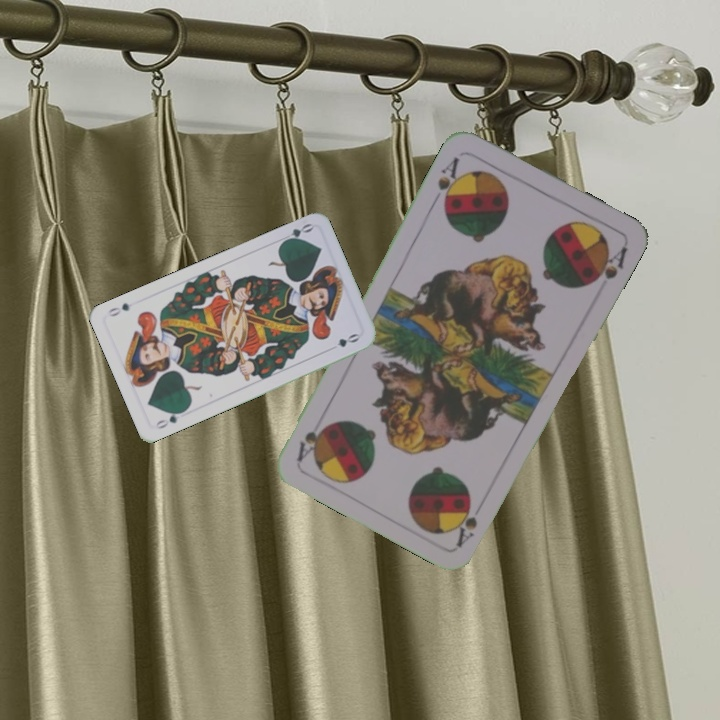GO: (278, 219, 315, 246), (151, 406, 188, 431)
SA: (433, 152, 465, 209), (451, 497, 481, 549)
